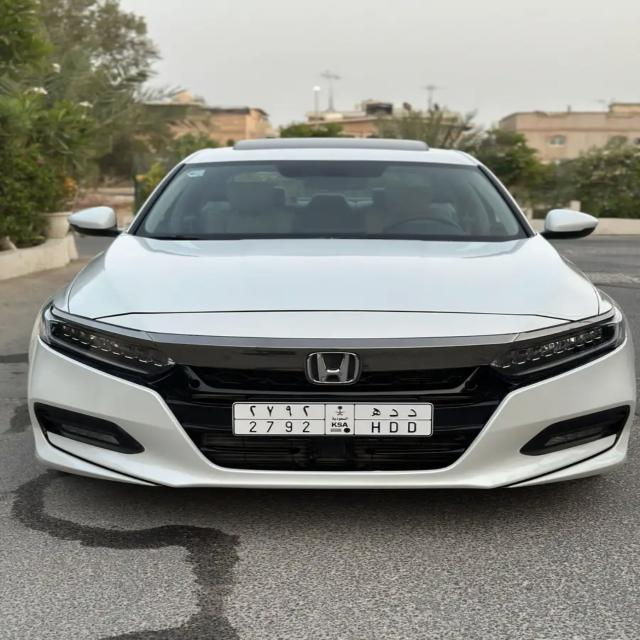license_plate: (232, 402, 429, 440)
